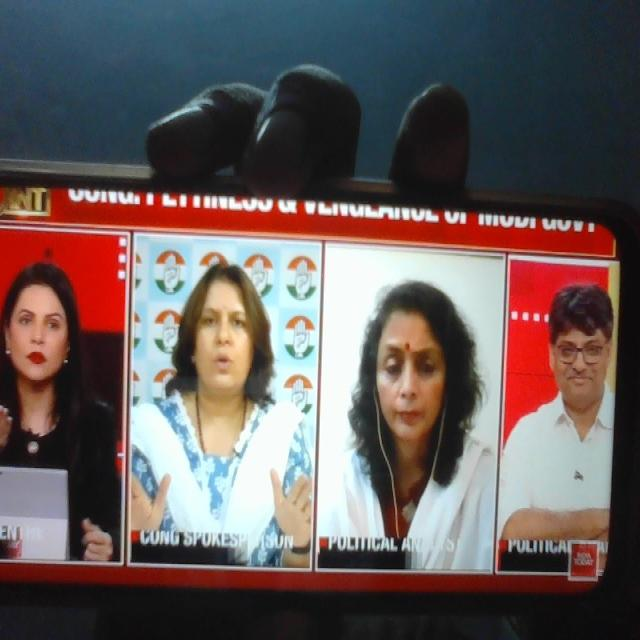fake: (360, 274, 462, 466)
